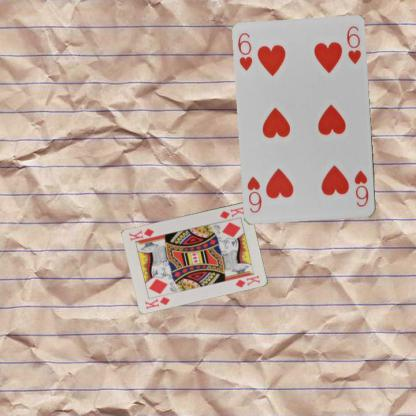6h: (352, 168, 370, 209), (236, 31, 254, 72)
Kd: (217, 204, 246, 220), (142, 294, 171, 310)
